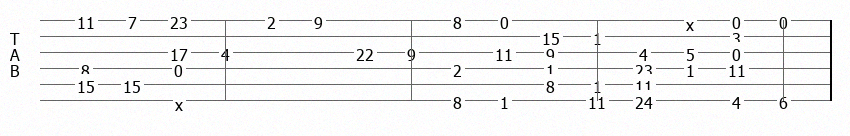0: (174, 60, 187, 76), (500, 12, 513, 28), (732, 44, 745, 60), (732, 12, 745, 28), (779, 12, 792, 28)
1: (500, 92, 513, 108), (546, 60, 559, 76), (593, 28, 606, 44), (593, 76, 606, 92), (686, 60, 699, 76)
11: (77, 12, 99, 28), (495, 44, 517, 60), (588, 92, 610, 108), (635, 76, 657, 92), (728, 60, 750, 76)
15: (77, 76, 99, 92), (123, 76, 145, 92), (542, 28, 564, 44)
17: (170, 44, 192, 60)
2: (267, 12, 280, 28), (453, 60, 466, 76)
22: (356, 44, 378, 60)
23: (170, 12, 192, 28), (635, 60, 657, 76)
24: (635, 92, 657, 108)
3: (732, 28, 745, 44)
4: (221, 44, 234, 60), (639, 44, 652, 60), (732, 92, 745, 108)
5: (686, 44, 699, 60)
6: (779, 92, 792, 108)
7: (128, 12, 141, 28)
8: (81, 60, 94, 76), (453, 92, 466, 108), (453, 12, 466, 28), (546, 76, 559, 92)
9: (314, 12, 327, 28), (407, 44, 420, 60), (546, 44, 559, 60)
x: (175, 94, 187, 107), (686, 14, 698, 27)
